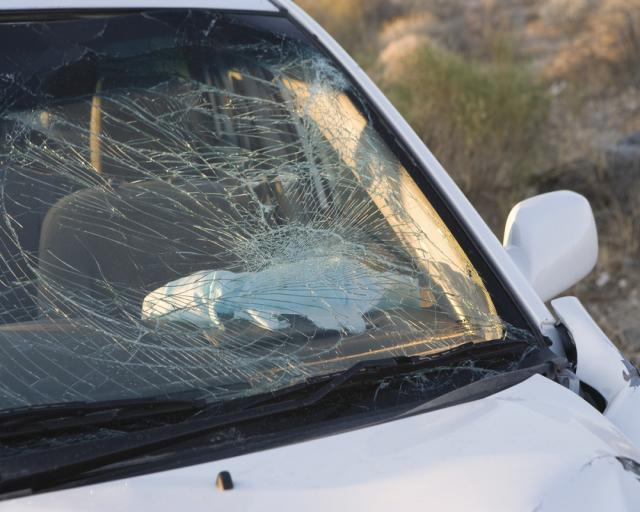glass shatter: (0, 9, 543, 453)
